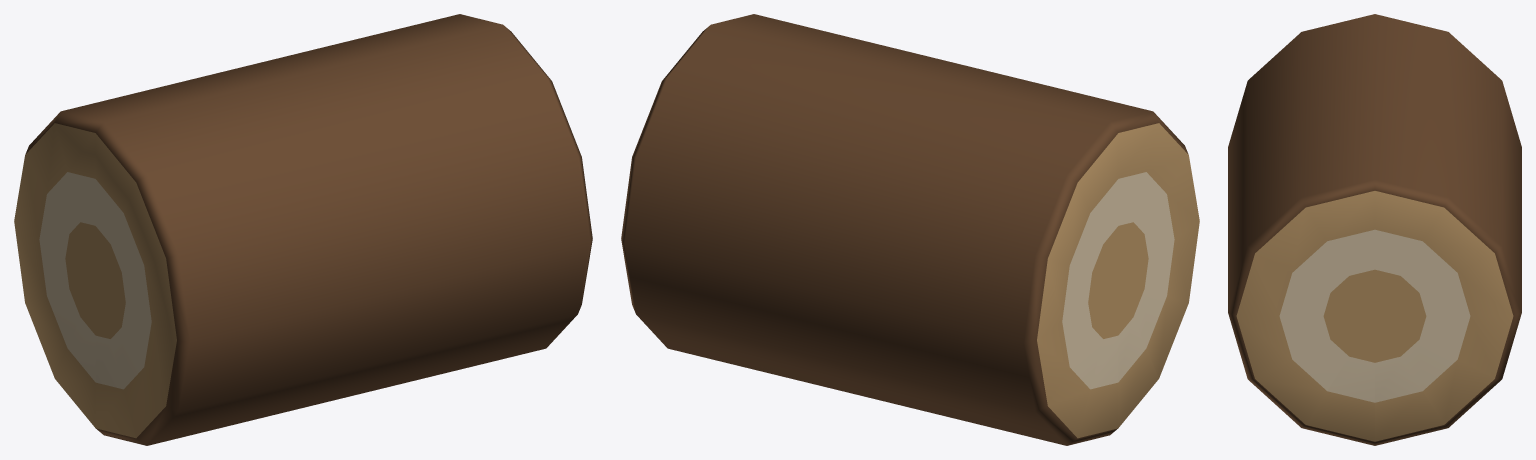
The model's file is log_section.glb.
3 renders of one model, left to right at view 1: azimuth 30°, elevation 25°; view 2: azimuth 150°, elevation 25°; view 3: azimuth 270°, elevation 25°, orthographic. The views are drawn at different scales.
Parts seen in each view (by area): view 1: Log; view 2: Log; view 3: Log.
Part boxes in pixels (x1,y1,x2,y2): Log: (14, 14, 592, 445); Log: (621, 14, 1199, 445); Log: (1228, 14, 1521, 445).
Size of the model in its own units: 1 by 0.72 by 0.72.
1 material, 1 textured.
